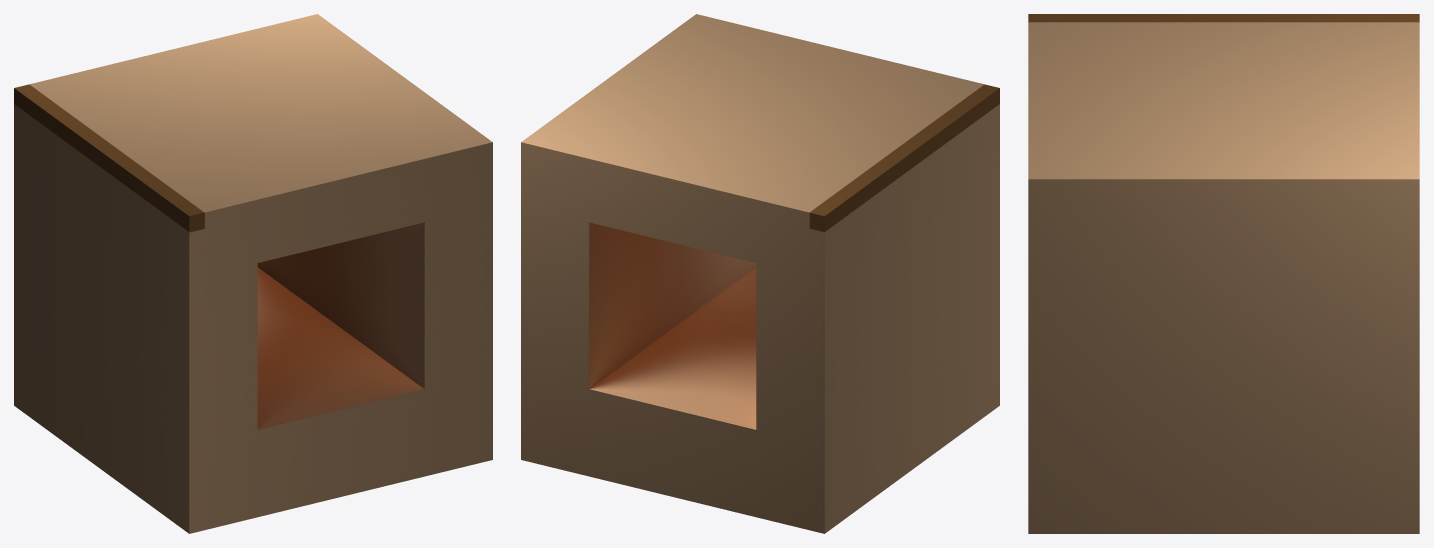
3 views of the same model, side by side, from view 1: azimuth 30°, elevation 25°; view 2: azimuth 150°, elevation 25°; view 3: azimuth 270°, elevation 25° (orthographic). The views are drawn at different scales.
Visible parts, largest first — view 1: box; view 2: box; view 3: box.
Boxes of the visible parts, box(x1,y1,x2,y2) form: box: box(14, 14, 492, 533); box: box(521, 14, 999, 533); box: box(1028, 14, 1419, 533).
Bounding box in the file's own units: 4 × 4 × 4.
1 material, 1 textured.
